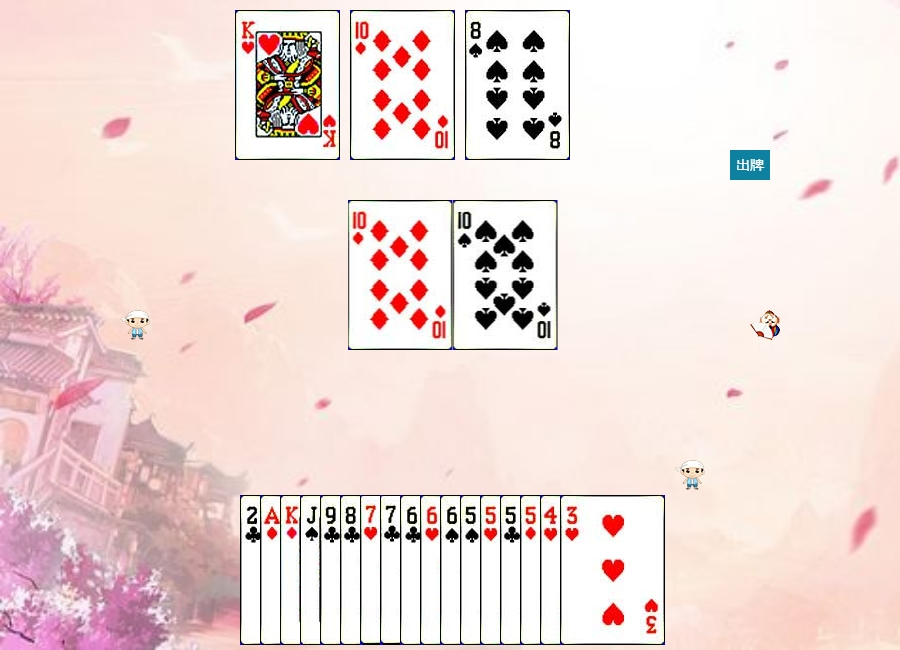10~1: (350, 10, 455, 160), (348, 200, 453, 350)
10~4: (453, 200, 558, 350)
11~4: (300, 495, 405, 645)
13~1: (280, 495, 385, 645)
13~3: (235, 10, 340, 160)
14~1: (260, 495, 365, 645)
15~2: (240, 495, 345, 645)
3~3: (560, 495, 665, 645)
4~3: (540, 495, 645, 645)
5~1: (520, 495, 625, 645)
5~2: (500, 495, 605, 645)
5~3: (480, 495, 585, 645)
5~4: (460, 495, 565, 645)
6~2: (400, 495, 505, 645)
6~3: (420, 495, 525, 645)
6~4: (440, 495, 545, 645)
7~2: (380, 495, 485, 645)
7~3: (360, 495, 465, 645)
8~2: (340, 495, 445, 645)
8~4: (465, 10, 570, 160)
9~2: (320, 495, 425, 645)
